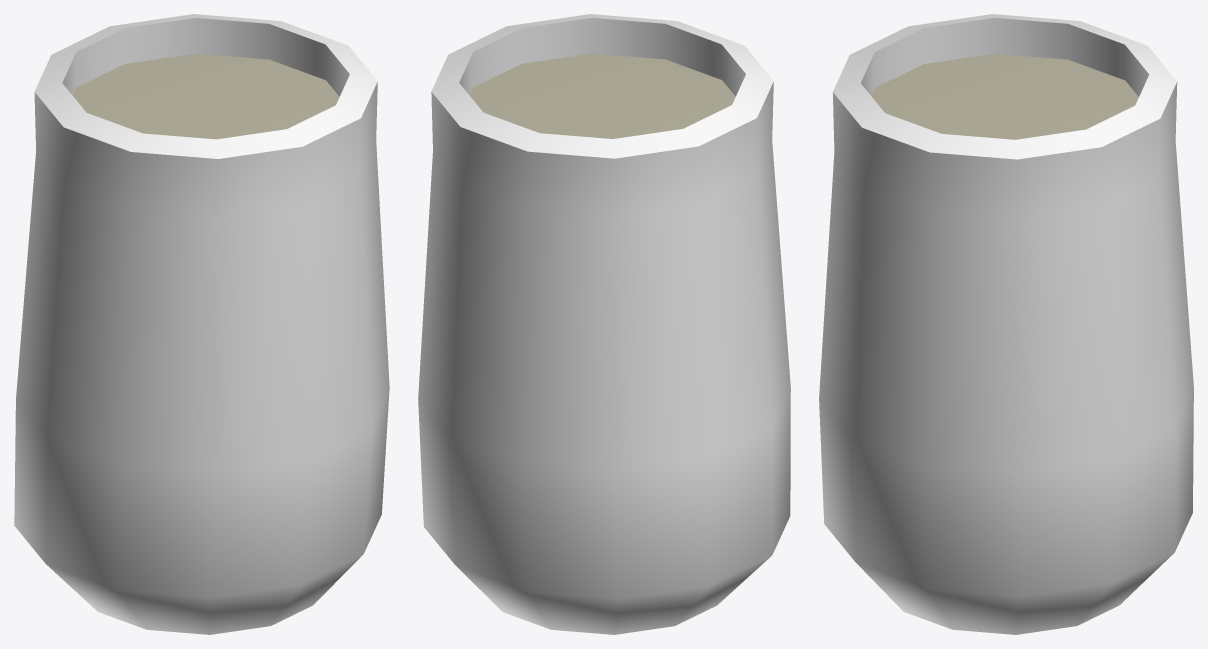
File: PT_Pot_20.fbx
3 renders of one model, left to right at view 1: azimuth 30°, elevation 25°; view 2: azimuth 150°, elevation 25°; view 3: azimuth 270°, elevation 25°, orthographic.
Visible parts, largest first — view 1: PT_Pot_20; view 2: PT_Pot_20; view 3: PT_Pot_20.
Boxes of the visible parts, <box> form: PT_Pot_20: <box>14,14,389,634</box>; PT_Pot_20: <box>418,14,790,634</box>; PT_Pot_20: <box>819,14,1193,634</box>.
Bounding box in the file's own units: 9.21 × 13.87 × 9.18.
1 material, 1 textured.
